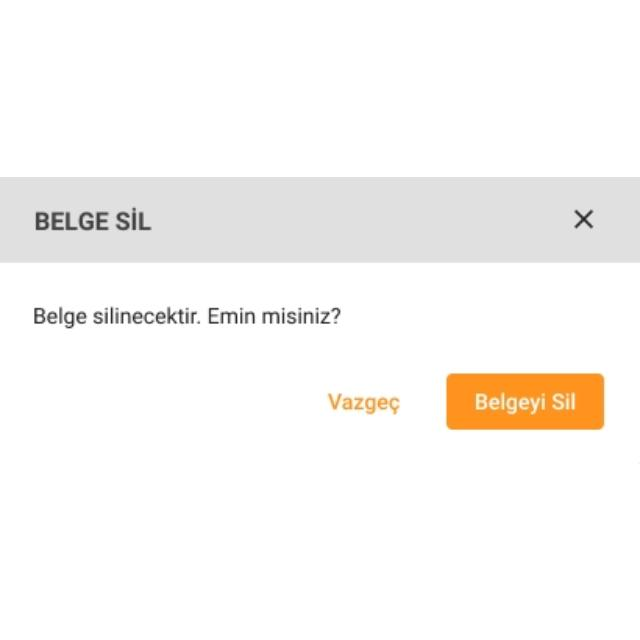QLabel: (26, 300, 346, 330), (466, 385, 582, 417), (28, 206, 156, 234), (325, 388, 403, 414)
VBtn: (446, 372, 606, 430)
VDialog: (0, 176, 640, 464), (0, 176, 640, 464)
VIcon: (568, 204, 596, 232)
